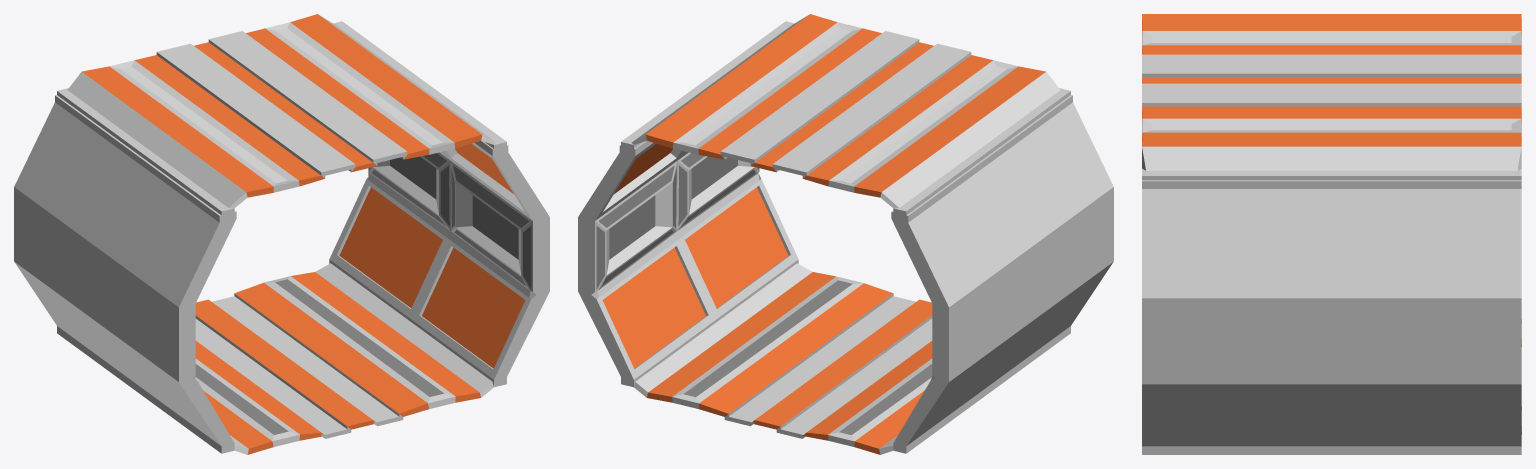
File: ÜberdachtGerade.fbx
3 renders of one model, left to right at view 1: azimuth 30°, elevation 25°; view 2: azimuth 150°, elevation 25°; view 3: azimuth 270°, elevation 25°, orthographic. The views are drawn at different scales.
Parts seen in each view (by area): view 1: Plane.006; view 2: Plane.006; view 3: Plane.006.
Part boxes in pixels (x1,y1,x2,y2): Plane.006: (14, 14, 549, 454); Plane.006: (578, 14, 1113, 454); Plane.006: (1142, 14, 1521, 454).
Bounding box in the file's own units: 260 × 179 × 200.
